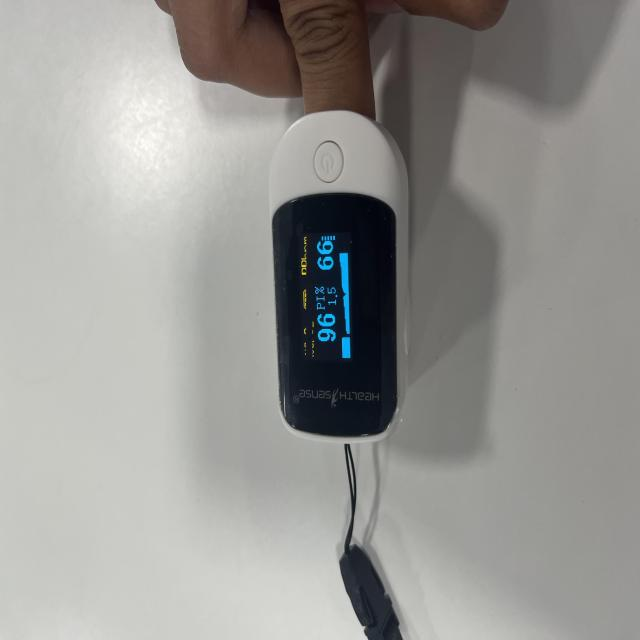spo2: (267, 109, 413, 446)
